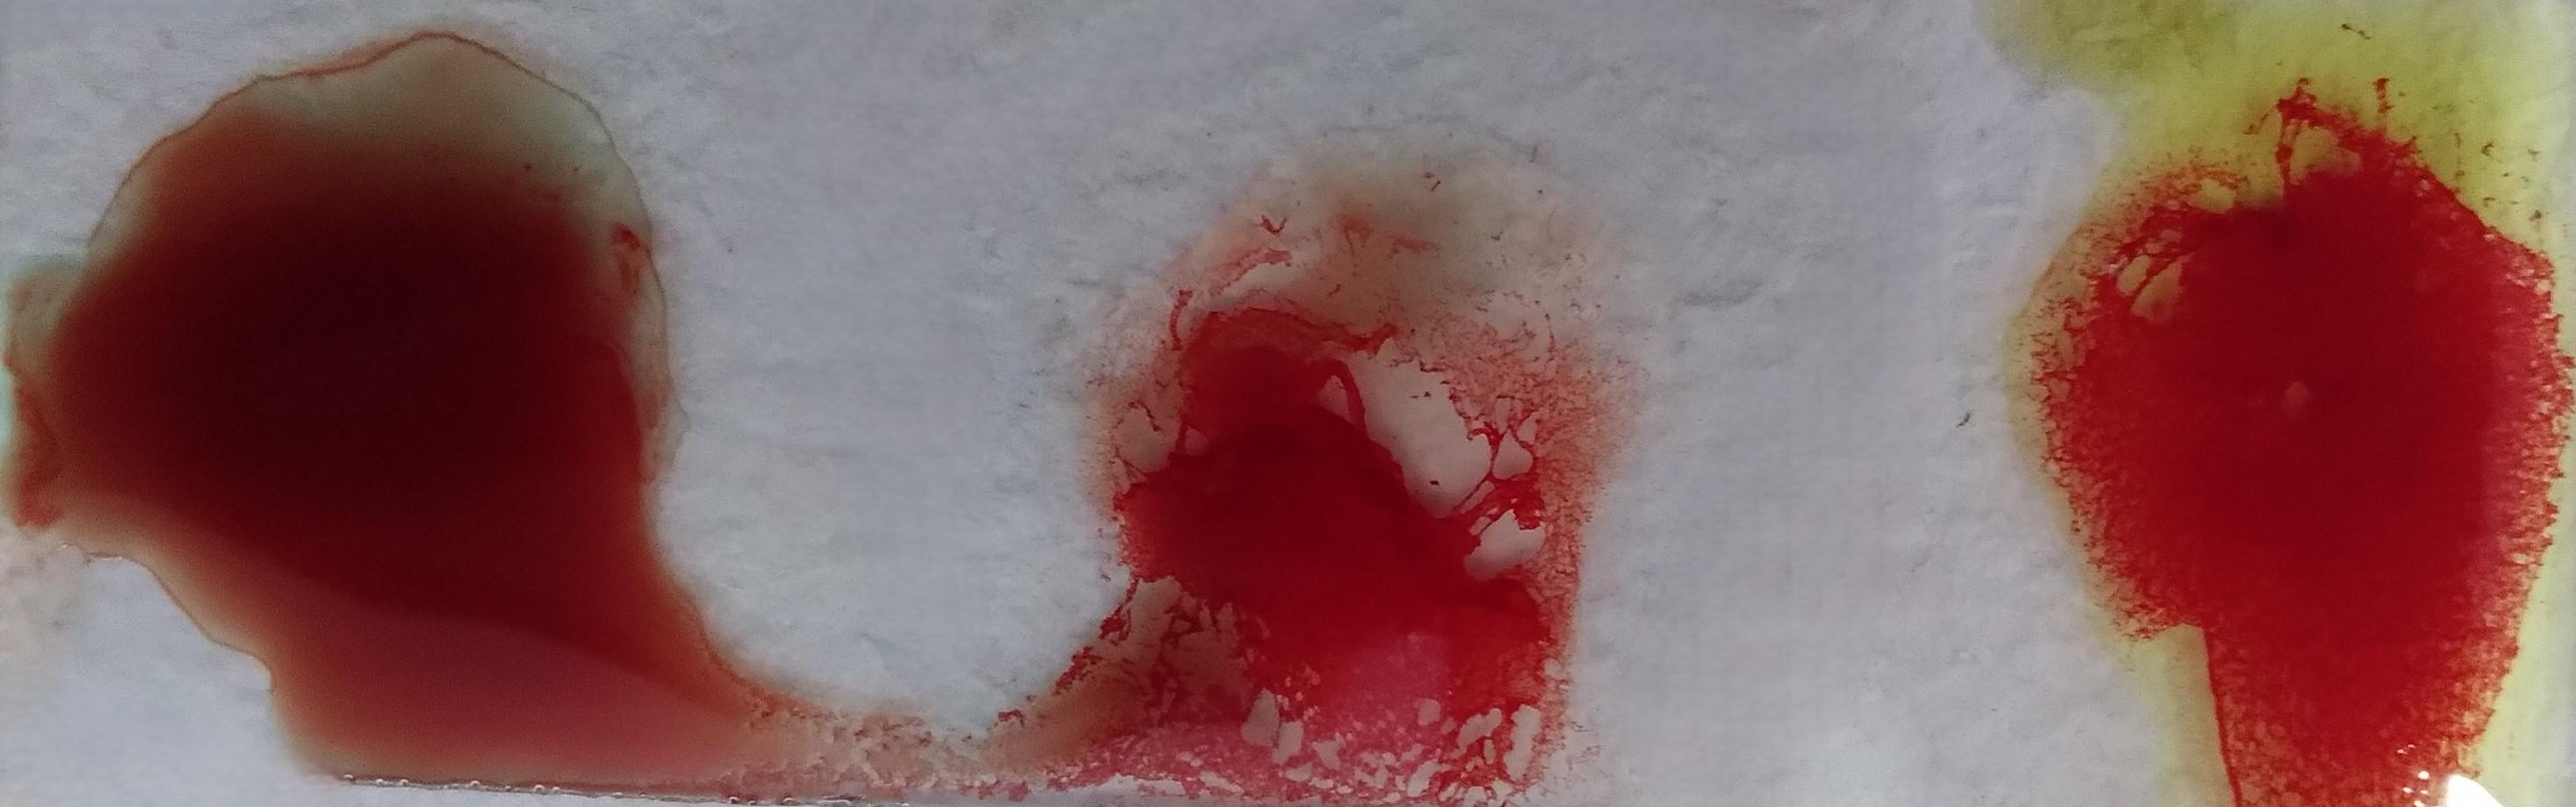B: (2032, 33, 2563, 807)
D: (1142, 202, 1587, 807)
